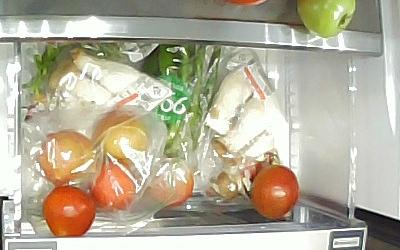prune: (41, 183, 95, 237), (248, 163, 299, 219)
prune_vinyl: (36, 129, 96, 186), (91, 108, 153, 161), (91, 157, 139, 210), (146, 158, 194, 206)
